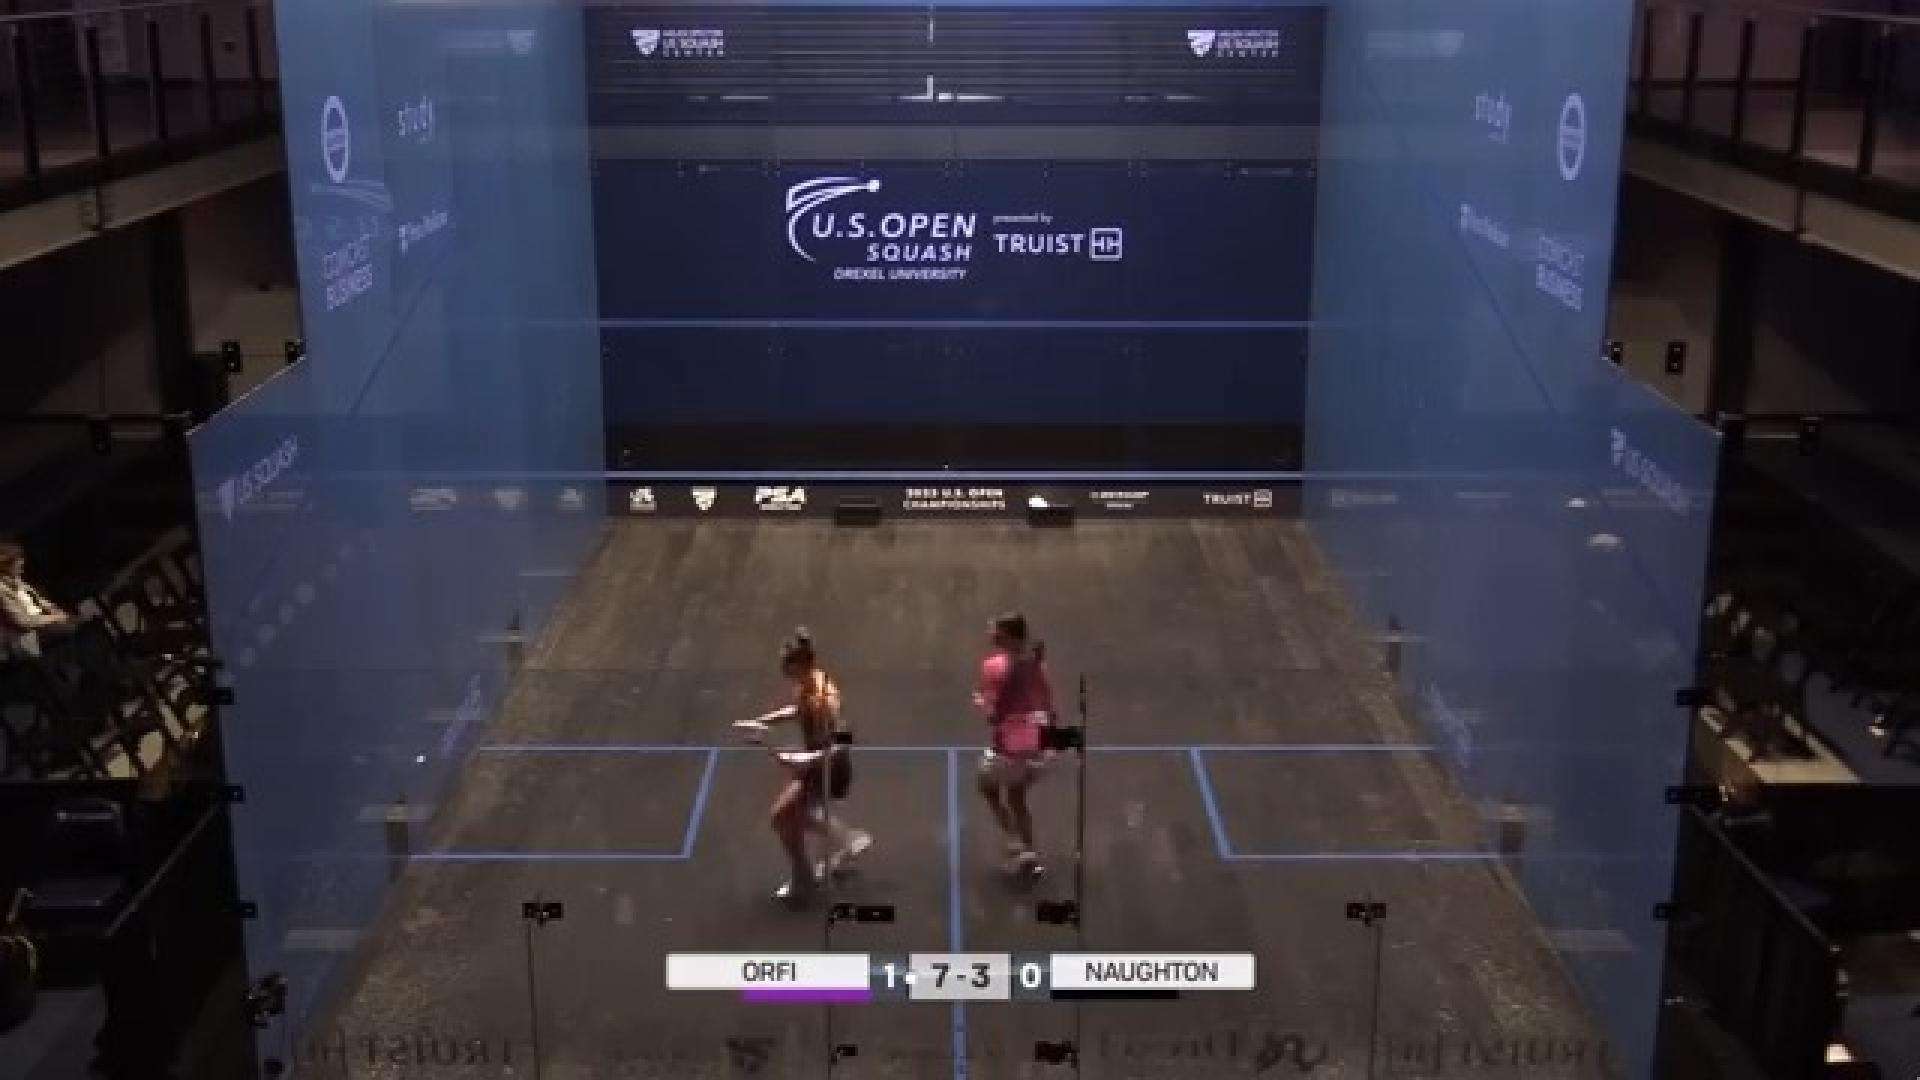Squash-Ball: (400, 735, 442, 787)
